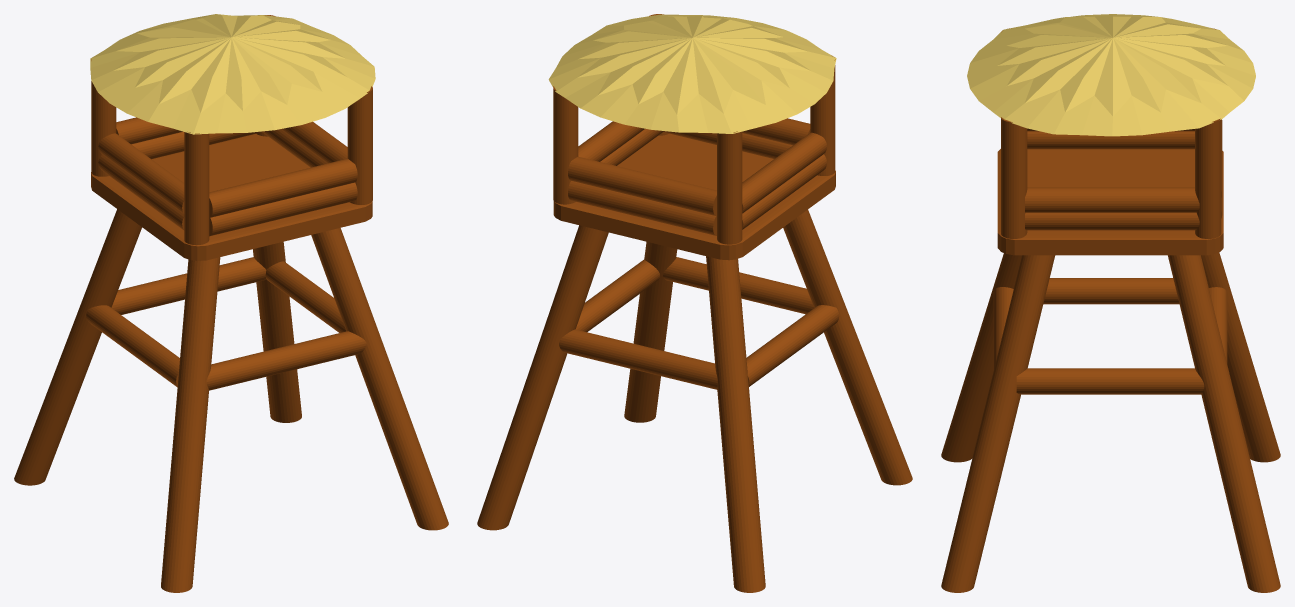
File: towercoloe.fbx
3 views of the same model, side by side, from view 1: azimuth 30°, elevation 25°; view 2: azimuth 150°, elevation 25°; view 3: azimuth 270°, elevation 25° (orthographic). The views are drawn at different scales.
Visible parts, largest first — view 1: Cylinder.027, Cylinder.005, Cylinder.003, Cylinder.004, Cylinder.002, Cylinder.001, Cylinder.022, Cylinder.012, Cylinder.021, Cylinder.009, Cylinder.011, Cylinder.019 (+9 smaller); view 2: Cylinder.027, Cylinder.002, Cylinder.005, Cylinder.001, Cylinder.003, Cylinder.004, Cylinder.021, Cylinder.013, Cylinder.010, Cylinder.022, Cylinder.007, Cylinder.019 (+9 smaller); view 3: Cylinder.027, Cylinder.005, Cylinder.001, Cylinder.004, Cylinder.020, Cylinder.002, Cylinder.003, Cylinder.017, Cylinder.019, Cylinder.016, Cylinder.008, Cylinder.006 (+3 smaller).
Boxes of the visible parts, box(x1,y1,x2,y2) form: Cylinder.027: box(90, 14, 375, 134); Cylinder.005: box(91, 134, 372, 260); Cylinder.003: box(161, 257, 220, 592); Cylinder.004: box(311, 228, 448, 530); Cylinder.002: box(14, 209, 141, 485); Cylinder.001: box(253, 241, 301, 422); Cylinder.022: box(206, 331, 366, 390); Cylinder.012: box(209, 158, 357, 217); Cylinder.021: box(111, 257, 266, 314); Cylinder.009: box(184, 132, 209, 245); Cylinder.011: box(209, 182, 357, 236); Cylinder.019: box(86, 305, 179, 387); Cylinder.027: box(548, 14, 836, 133); Cylinder.002: box(706, 256, 765, 592); Cylinder.005: box(553, 133, 835, 260); Cylinder.001: box(477, 225, 608, 530); Cylinder.003: box(783, 209, 912, 485); Cylinder.004: box(624, 241, 677, 422); Cylinder.021: box(559, 329, 717, 389); Cylinder.013: box(568, 156, 716, 215); Cylinder.010: box(568, 181, 716, 235); Cylinder.022: box(663, 257, 813, 314); Cylinder.007: box(717, 131, 742, 244); Cylinder.019: box(746, 305, 839, 386); Cylinder.027: box(967, 14, 1255, 136); Cylinder.005: box(997, 149, 1223, 255); Cylinder.001: box(1168, 255, 1280, 592); Cylinder.004: box(941, 255, 1055, 592); Cylinder.020: box(1016, 368, 1204, 394); Cylinder.002: box(1201, 252, 1280, 462); Cylinder.003: box(941, 253, 1021, 462); Cylinder.017: box(1025, 187, 1199, 212); Cylinder.019: box(1043, 278, 1179, 304); Cylinder.016: box(1025, 212, 1199, 230); Cylinder.008: box(1001, 117, 1027, 238); Cylinder.006: box(1195, 118, 1221, 238).
Size of the model in its own units: 199 by 310 by 197.
